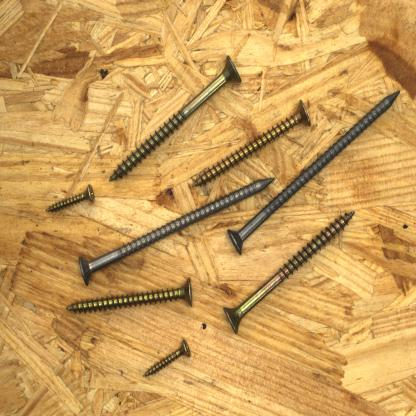screw: (226, 88, 404, 258), (75, 174, 277, 289), (107, 51, 245, 186), (222, 209, 358, 338), (189, 96, 314, 190), (64, 274, 194, 316), (142, 336, 192, 381), (43, 182, 97, 216)
